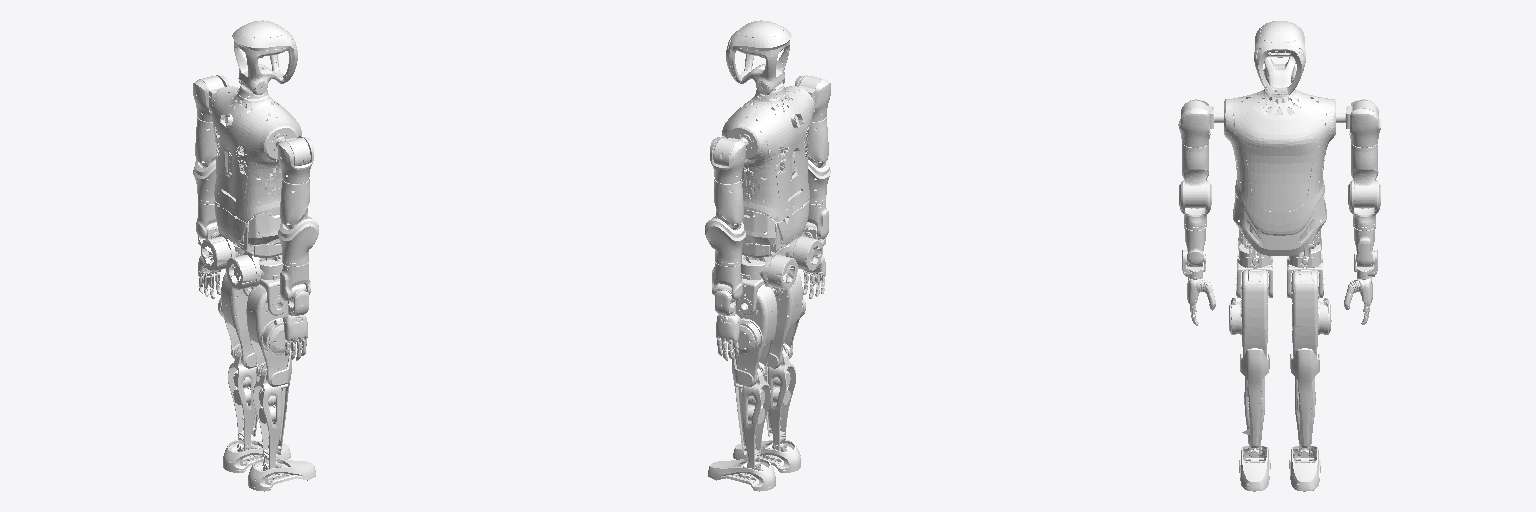
--- Render facts (derived) ---
Views: 3 orthographic renders of the robot side by side, from view 1: azimuth 30°, elevation 25°; view 2: azimuth 150°, elevation 25°; view 3: azimuth 270°, elevation 25°.
Robot: biped_s46 — 46 links, 45 joints (28 revolute, 16 fixed, 1 floating); root link dummy_link; default pose: all joints at 0.
Visible links, largest first — view 1: base_link, zhead_2_link, leg_r3_link, leg_r4_link, leg_l4_link, leg_l3_link, leg_r6_link, zarm_r4_link, zarm_r7_link, zarm_r3_link, leg_l6_link, zarm_r2_link (+7 smaller); view 2: base_link, zhead_2_link, leg_l3_link, leg_l4_link, leg_r4_link, leg_r3_link, leg_l6_link, zarm_l4_link, zarm_l7_link, zarm_l3_link, leg_r6_link, zarm_l2_link (+8 smaller); view 3: base_link, zhead_2_link, leg_l3_link, leg_r3_link, leg_r4_link, leg_l4_link, zarm_l3_link, zarm_r3_link, leg_l6_link, leg_r6_link, zarm_l2_link, zarm_r2_link (+6 smaller).
Link boxes in pixels (x1,y1,x2,y2): base_link: (201, 86, 301, 289); zhead_2_link: (232, 20, 297, 94); leg_r3_link: (246, 284, 291, 386); leg_r4_link: (253, 350, 291, 468); leg_l4_link: (228, 344, 261, 450); leg_l3_link: (218, 272, 253, 368); leg_r6_link: (248, 459, 315, 491); zarm_r4_link: (278, 218, 318, 266); zarm_r7_link: (283, 291, 308, 360); zarm_r3_link: (280, 179, 311, 229); leg_l6_link: (223, 440, 290, 472); zarm_r2_link: (278, 136, 313, 183); base_link: (722, 86, 822, 289); zhead_2_link: (726, 20, 791, 95); leg_l3_link: (729, 284, 777, 386); leg_l4_link: (732, 350, 770, 468); leg_r4_link: (762, 344, 795, 450); leg_r3_link: (770, 272, 805, 368); leg_l6_link: (708, 459, 775, 491); zarm_l4_link: (705, 218, 745, 266); zarm_l7_link: (715, 291, 740, 360); zarm_l3_link: (712, 179, 743, 229); leg_r6_link: (733, 440, 800, 472); zarm_l2_link: (710, 136, 745, 183); base_link: (1224, 89, 1335, 268); zhead_2_link: (1254, 21, 1305, 94); leg_l3_link: (1291, 270, 1331, 357); leg_r3_link: (1229, 270, 1268, 357); leg_r4_link: (1240, 348, 1269, 455); leg_l4_link: (1290, 348, 1319, 455); zarm_l3_link: (1351, 144, 1378, 207); zarm_r3_link: (1182, 144, 1208, 207); leg_l6_link: (1289, 446, 1320, 491); leg_r6_link: (1239, 446, 1270, 491); zarm_l2_link: (1349, 99, 1381, 147); zarm_r2_link: (1178, 99, 1210, 147).
Size in the robot's own frame: 0.3178 by 0.7029 by 1.71 metres.
30 mesh visuals loaded from 31 distinct referenced files (30 binary STL); not drawn: 1 (reference not matched to a file when rendering).

The robot description file, URDF, robot "biped_s46":
<?xml version='1.0' encoding='utf-8'?>
<robot name="biped_s46">
  <mujoco>
    <compiler meshdir="../meshes/" balanceinertia="true" discardvisual="false" />
  </mujoco>
  <link name="dummy_link" />
  <link name="base_link">
    <inertial>
      <origin xyz="-0.00761 0.00182 0.21995" rpy="0 0 0" />
      <mass value="26.8206" />
      <inertia ixx="0.93103133" ixy="0.00011763" ixz="-0.07210993" iyy="0.82590532" iyz="6.88e-06" izz="0.27686612" />
    </inertial>
    <visual>
      <origin xyz="0 0 0" rpy="0 0 0" />
      <geometry>
        <mesh filename="package://kuavo_assets/models/biped_s46/meshes/torso.STL" />
      </geometry>
      <material name="">
        <color rgba="1 1 1 1" />
      </material>
    </visual>
  </link>
  <joint name="dummy_to_base_link" type="floating">
    <origin xyz="0 0 0" rpy="0 0 0" />
    <parent link="dummy_link" />
    <child link="base_link" />
  </joint>
  <link name="leg_l1_link">
    <inertial>
      <origin xyz="-0.00402302 0.00013568 -0.00908713" rpy="0 0 0" />
      <mass value="1.75435865" />
      <inertia ixx="0.00213694" ixy="-1.117e-05" ixz="7.843e-05" iyy="0.00281054" iyz="1.45e-06" izz="0.00376989" />
    </inertial>
    <visual>
      <origin xyz="0 0 0" rpy="0 0 0" />
      <geometry>
        <mesh filename="package://kuavo_assets/models/biped_s46/meshes/l_leg_roll.STL" />
      </geometry>
      <material name="">
        <color rgba="1 1 1 1" />
      </material>
    </visual>
  </link>
  <joint name="leg_l1_joint" type="revolute">
    <origin xyz="-0.0024999 0.087 -0.066" rpy="0 0 0" />
    <parent link="base_link" />
    <child link="leg_l1_link" />
    <axis xyz="1 0 0" />
    <limit lower="-0.314159265358979" upper="0.663225115757845" effort="180.0" velocity="23.55" />
    <dynamic damping="0.2" friction="0.0" />
  </joint>
  <link name="leg_l2_link">
    <inertial>
      <origin xyz="-0.00277949 0.00478016 -0.07783479" rpy="0 0 0" />
      <mass value="0.65196372" />
      <inertia ixx="0.00252541" ixy="-1.458e-05" ixz="4.114e-05" iyy="0.00133394" iyz="0.00013109" izz="0.00190182" />
    </inertial>
    <visual>
      <origin xyz="0 0 0" rpy="0 0 0" />
      <geometry>
        <mesh filename="package://kuavo_assets/models/biped_s46/meshes/l_leg_yaw.STL" />
      </geometry>
      <material name="">
        <color rgba="1 1 1 1" />
      </material>
    </visual>
  </link>
  <joint name="leg_l2_joint" type="revolute">
    <origin xyz="0 0 0" rpy="0 0 0" />
    <parent link="leg_l1_link" />
    <child link="leg_l2_link" />
    <axis xyz="0 0 1" />
    <limit lower="-0.872664625997165" upper="0.785398163397448" effort="100.0" velocity="41.3433333333333" />
    <dynamic damping="0.2" friction="0.0" />
  </joint>
  <link name="leg_l3_link">
    <inertial>
      <origin xyz="0.00106133 0.00970189 -0.08299898" rpy="0 0 0" />
      <mass value="4.78668906" />
      <inertia ixx="0.04245642" ixy="5.914e-05" ixz="0.0011988" iyy="0.04359485" iyz="0.00289498" izz="0.01119299" />
    </inertial>
    <visual>
      <origin xyz="0 0 0" rpy="0 0 0" />
      <geometry>
        <mesh filename="package://kuavo_assets/models/biped_s46/meshes/l_leg_pitch.STL" />
      </geometry>
      <material name="">
        <color rgba="1 1 1 1" />
      </material>
    </visual>
  </link>
  <joint name="leg_l3_joint" type="revolute">
    <origin xyz="0 0 -0.1287" rpy="0 0 0" />
    <parent link="leg_l2_link" />
    <child link="leg_l3_link" />
    <axis xyz="0 1 0" />
    <limit lower="-2.00712863979348" upper="1.5707963267949" effort="100.0" velocity="41.3433333333333" />
    <dynamic damping="0.2" friction="0.0" />
  </joint>
  <link name="leg_l4_link">
    <inertial>
      <origin xyz="0.00811619 -1.521e-05 -0.11050332" rpy="0 0 0" />
      <mass value="1.87830432" />
      <inertia ixx="0.01534476" ixy="-3.39e-06" ixz="8.841e-05" iyy="0.01543732" iyz="-5.473e-05" izz="0.00111697" />
    </inertial>
    <visual>
      <origin xyz="0 0 0" rpy="0 0 0" />
      <geometry>
        <mesh filename="package://kuavo_assets/models/biped_s46/meshes/l_knee.STL" />
      </geometry>
      <material name="">
        <color rgba="1 1 1 1" />
      </material>
    </visual>
  </link>
  <joint name="leg_l4_joint" type="revolute">
    <origin xyz="0 0 -0.284" rpy="0 0 0" />
    <parent link="leg_l3_link" />
    <child link="leg_l4_link" />
    <axis xyz="0 1 0" />
    <limit lower="0.0" upper="2.53072741539178" effort="180.0" velocity="23.55" />
    <dynamic damping="0.2" friction="0.0" />
  </joint>
  <link name="leg_l5_link">
    <inertial>
      <origin xyz="0.0 0.0 0.0" rpy="0 0 0" />
      <mass value="0.07193524" />
      <inertia ixx="6.92e-06" ixy="0.0" ixz="0.0" iyy="6.92e-06" iyz="0.0" izz="1.218e-05" />
    </inertial>
    <visual>
      <origin xyz="0 0 0" rpy="0 0 0" />
      <geometry>
        <mesh filename="package://kuavo_assets/models/biped_s46/meshes/l_foot_pitch.STL" />
      </geometry>
      <material name="">
        <color rgba="1 1 1 1" />
      </material>
    </visual>
  </link>
  <joint name="leg_l5_joint" type="revolute">
    <origin xyz="0 0 -0.346" rpy="0 0 0" />
    <parent link="leg_l4_link" />
    <child link="leg_l5_link" />
    <axis xyz="0 1 0" />
    <limit lower="-0.872664625997165" upper="0.349065850398866" effort="36.0" velocity="23.0266666666667" />
    <dynamic damping="0.2" friction="0.0" />
  </joint>
  <link name="leg_l6_link">
    <inertial>
      <origin xyz="0.02854191 1.684e-05 -0.03872043" rpy="0 0 0" />
      <mass value="0.76188245" />
      <inertia ixx="0.00078865" ixy="-5e-08" ixz="0.0001266" iyy="0.00287756" iyz="2e-08" izz="0.00303499" />
    </inertial>
    <visual>
      <origin xyz="0 0 0" rpy="0 0 0" />
      <geometry>
        <mesh filename="package://kuavo_assets/models/biped_s46/meshes/l_foot_roll.STL" />
      </geometry>
      <material name="">
        <color rgba="1 1 1 1" />
      </material>
    </visual>
    <collision>
    	<origin xyz="0.0488 0 0" rpy="0 0 0"/>
	    <geometry>
		    <box size="0.25 0.1 0.04"/>
	    </geometry>
    </collision>
  </link>
  <joint name="leg_l6_joint" type="revolute">
    <origin xyz="0 0 0" rpy="0 0 0" />
    <parent link="leg_l5_link" />
    <child link="leg_l6_link" />
    <axis xyz="1 0 0" />
    <limit lower="-0.261799387799149" upper="0.261799387799149" effort="36.0" velocity="23.0266666666667" />
    <dynamic damping="0.2" friction="0.0" />
  </joint>
  <link name="ll_foot_toe">
    <collision>
      <origin rpy="0 0 0" xyz="0 0 0" />
      <geometry>
        <sphere radius="0.005" />
      </geometry>
    </collision>
  </link>
  <joint name="ll_foot_toe_joint" type="fixed">
    <origin xyz="0.17475 0.05623 -0.0695" rpy="0 0 0" />
    <parent link="leg_l6_link" />
    <child link="ll_foot_toe" />
  </joint>
  <link name="ll_foot_heel">
    <collision>
      <origin rpy="0 0 0" xyz="0 0 0" />
      <geometry>
        <sphere radius="0.005" />
      </geometry>
    </collision>
  </link>
  <joint name="ll_foot_heel_joint" type="fixed">
    <origin xyz="-0.07838 0.05623 -0.0695" rpy="0 0 0" />
    <parent link="leg_l6_link" />
    <child link="ll_foot_heel" />
  </joint>
  <link name="lr_foot_toe">
    <collision>
      <origin rpy="0 0 0" xyz="0 0 0" />
      <geometry>
        <sphere radius="0.005" />
      </geometry>
    </collision>
  </link>
  <joint name="lr_foot_toe_joint" type="fixed">
    <origin xyz="0.17475 -0.05623 -0.0695" rpy="0 0 0" />
    <parent link="leg_l6_link" />
    <child link="lr_foot_toe" />
  </joint>
  <link name="lr_foot_heel">
    <collision>
      <origin rpy="0 0 0" xyz="0 0 0" />
      <geometry>
        <sphere radius="0.005" />
      </geometry>
    </collision>
  </link>
  <joint name="lr_foot_heel_joint" type="fixed">
    <origin xyz="-0.07838 -0.05623 -0.0695" rpy="0 0 0" />
    <parent link="leg_l6_link" />
    <child link="lr_foot_heel" />
  </joint>
  <link name="l_foot_toe">
    <collision>
      <origin rpy="0 0 0" xyz="0 0 0" />
      <geometry>
        <sphere radius="0.005" />
      </geometry>
    </collision>
  </link>
  <joint name="l_foot_toe_joint" type="fixed">
    <origin xyz="0.17475 0.0 -0.0695" rpy="0 0 0" />
    <parent link="leg_l6_link" />
    <child link="l_foot_toe" />
  </joint>
  <link name="l_foot_heel">
    <collision>
      <origin rpy="0 0 0" xyz="0 0 0" />
      <geometry>
        <sphere radius="0.005" />
      </geometry>
    </collision>
  </link>
  <joint name="l_foot_heel_joint" type="fixed">
    <origin xyz="-0.07838 0.0 -0.0695" rpy="0 0 0" />
    <parent link="leg_l6_link" />
    <child link="l_foot_heel" />
  </joint>
  <link name="leg_r1_link">
    <inertial>
      <origin xyz="-0.004023 -0.00013567 -0.00908714" rpy="0 0 0" />
      <mass value="1.75435774" />
      <inertia ixx="0.00213694" ixy="1.117e-05" ixz="7.843e-05" iyy="0.00281054" iyz="-1.45e-06" izz="0.00376989" />
    </inertial>
    <visual>
      <origin xyz="0 0 0" rpy="0 0 0" />
      <geometry>
        <mesh filename="package://kuavo_assets/models/biped_s46/meshes/r_leg_roll.STL" />
      </geometry>
      <material name="">
        <color rgba="1 1 1 1" />
      </material>
    </visual>
  </link>
  <joint name="leg_r1_joint" type="revolute">
    <origin xyz="-0.0024999 -0.087 -0.066" rpy="0 0 0" />
    <parent link="base_link" />
    <child link="leg_r1_link" />
    <axis xyz="1 0 0" />
    <limit lower="-0.663225115757845" upper="0.314159265358979" effort="180.0" velocity="23.55" />
    <dynamic damping="0.2" friction="0.0" />
  </joint>
  <link name="leg_r2_link">
    <inertial>
      <origin xyz="-0.00277949 -0.00477985 -0.077836" rpy="0 0 0" />
      <mass value="0.6519443" />
      <inertia ixx="0.00252534" ixy="1.458e-05" ixz="4.114e-05" iyy="0.00133391" iyz="-0.00013109" izz="0.00190179" />
    </inertial>
    <visual>
      <origin xyz="0 0 0" rpy="0 0 0" />
      <geometry>
        <mesh filename="package://kuavo_assets/models/biped_s46/meshes/r_leg_yaw.STL" />
      </geometry>
      <material name="">
        <color rgba="1 1 1 1" />
      </material>
    </visual>
  </link>
  <joint name="leg_r2_joint" type="revolute">
    <origin xyz="0 0 0" rpy="0 0 0" />
    <parent link="leg_r1_link" />
    <child link="leg_r2_link" />
    <axis xyz="0 0 1" />
    <limit lower="-0.785398163397448" upper="0.872664625997165" effort="100.0" velocity="41.3433333333333" />
    <dynamic damping="0.2" friction="0.0" />
  </joint>
  <link name="leg_r3_link">
    <inertial>
      <origin xyz="0.0010631 -0.00970056 -0.08300529" rpy="0 0 0" />
      <mass value="4.78627562" />
      <inertia ixx="0.04245191" ixy="-5.916e-05" ixz="0.00119828" iyy="0.04359033" iyz="-0.00289515" izz="0.01119264" />
    </inertial>
    <visual>
      <origin xyz="0 0 0" rpy="0 0 0" />
      <geometry>
        <mesh filename="package://kuavo_assets/models/biped_s46/meshes/r_leg_pitch.STL" />
      </geometry>
      <material name="">
        <color rgba="1 1 1 1" />
      </material>
    </visual>
  </link>
  <joint name="leg_r3_joint" type="revolute">
    <origin xyz="0 0 -0.1287" rpy="0 0 0" />
    <parent link="leg_r2_link" />
    <child link="leg_r3_link" />
    <axis xyz="0 1 0" />
    <limit lower="-2.00712863979348" upper="1.5707963267949" effort="100.0" velocity="41.3433333333333" />
    <dynamic damping="0.2" friction="0.0" />
  </joint>
  <link name="leg_r4_link">
    <inertial>
      <origin xyz="0.00810188 3.554e-05 -0.11037575" rpy="0 0 0" />
      <mass value="1.87881094" />
      <inertia ixx="0.01569504" ixy="3.34e-06" ixz="8.555e-05" iyy="0.01582823" iyz="5.467e-05" izz="0.00148903" />
    </inertial>
    <visual>
      <origin xyz="0 0 0" rpy="0 0 0" />
      <geometry>
        <mesh filename="package://kuavo_assets/models/biped_s46/meshes/r_knee.STL" />
      </geometry>
      <material name="">
        <color rgba="1 1 1 1" />
      </material>
    </visual>
  </link>
  <joint name="leg_r4_joint" type="revolute">
    <origin xyz="0 0 -0.284" rpy="0 0 0" />
    <parent link="leg_r3_link" />
    <child link="leg_r4_link" />
    <axis xyz="0 1 0" />
    <limit lower="0.0" upper="2.53072741539178" effort="180.0" velocity="23.55" />
    <dynamic damping="0.2" friction="0.0" />
  </joint>
  <link name="leg_r5_link">
    <inertial>
      <origin xyz="0.0 0.0 0.0" rpy="0 0 0" />
      <mass value="0.07193524" />
      <inertia ixx="6.92e-06" ixy="0.0" ixz="0.0" iyy="6.92e-06" iyz="0.0" izz="1.218e-05" />
    </inertial>
    <visual>
      <origin xyz="0 0 0" rpy="0 0 0" />
      <geometry>
        <mesh filename="package://kuavo_assets/models/biped_s46/meshes/r_foot_pitch.STL" />
      </geometry>
      <material name="">
        <color rgba="1 1 1 1" />
      </material>
    </visual>
  </link>
  <joint name="leg_r5_joint" type="revolute">
    <origin xyz="0 0 -0.346" rpy="0 0 0" />
    <parent link="leg_r4_link" />
    <child link="leg_r5_link" />
    <axis xyz="0 1 0" />
    <limit lower="-0.872664625997165" upper="0.349065850398866" effort="36.0" velocity="23.0266666666667" />
    <dynamic damping="0.2" friction="0.0" />
  </joint>
  <link name="leg_r6_link">
    <inertial>
      <origin xyz="0.02854191 1.684e-05 -0.03872043" rpy="0 0 0" />
      <mass value="0.76188245" />
      <inertia ixx="0.00078865" ixy="-5e-08" ixz="0.0001266" iyy="0.00287756" iyz="2e-08" izz="0.00303499" />
    </inertial>
    <visual>
      <origin xyz="0 0 0" rpy="0 0 0" />
      <geometry>
        <mesh filename="package://kuavo_assets/models/biped_s46/meshes/r_foot_roll.STL" />
      </geometry>
      <material name="">
        <color rgba="1 1 1 1" />
      </material>
    </visual>
    <collision>
    	<origin xyz="0.0488 0 0" rpy="0 0 0"/>
	    <geometry>
		    <box size="0.25 0.1 0.04"/>
	    </geometry>
    </collision>
  </link>
  <joint name="leg_r6_joint" type="revolute">
    <origin xyz="0 0 0" rpy="0 0 0" />
    <parent link="leg_r5_link" />
    <child link="leg_r6_link" />
    <axis xyz="1 0 0" />
    <limit lower="-0.261799387799149" upper="0.261799387799149" effort="36.0" velocity="23.0266666666667" />
    <dynamic damping="0.2" friction="0.0" />
  </joint>
  <link name="rl_foot_toe">
    <collision>
      <origin rpy="0 0 0" xyz="0 0 0" />
      <geometry>
        <sphere radius="0.005" />
      </geometry>
    </collision>
  </link>
  <joint name="rl_foot_toe_joint" type="fixed">
    <origin xyz="0.17475 0.05623 -0.0695" rpy="0 0 0" />
    <parent link="leg_r6_link" />
    <child link="rl_foot_toe" />
  </joint>
  <link name="rl_foot_heel">
    <collision>
      <origin rpy="0 0 0" xyz="0 0 0" />
      <geometry>
        <sphere radius="0.005" />
      </geometry>
    </collision>
  </link>
  <joint name="rl_foot_heel_joint" type="fixed">
    <origin xyz="-0.07838 0.05623 -0.0695" rpy="0 0 0" />
    <parent link="leg_r6_link" />
    <child link="rl_foot_heel" />
  </joint>
  <link name="rr_foot_toe">
    <collision>
      <origin rpy="0 0 0" xyz="0 0 0" />
      <geometry>
        <sphere radius="0.005" />
      </geometry>
    </collision>
  </link>
  <joint name="rr_foot_toe_joint" type="fixed">
    <origin xyz="0.17475 -0.05623 -0.0695" rpy="0 0 0" />
    <parent link="leg_r6_link" />
    <child link="rr_foot_toe" />
  </joint>
  <link name="rr_foot_heel">
    <collision>
      <origin rpy="0 0 0" xyz="0 0 0" />
      <geometry>
        <sphere radius="0.005" />
      </geometry>
    </collision>
  </link>
  <joint name="rr_foot_heel_joint" type="fixed">
    <origin xyz="-0.07838 -0.05623 -0.0695" rpy="0 0 0" />
    <parent link="leg_r6_link" />
    <child link="rr_foot_heel" />
  </joint>
  <link name="r_foot_toe">
    <collision>
      <origin rpy="0 0 0" xyz="0 0 0" />
      <geometry>
        <sphere radius="0.005" />
      </geometry>
    </collision>
  </link>
  <joint name="r_foot_toe_joint" type="fixed">
    <origin xyz="0.17475 0.0 -0.0695" rpy="0 0 0" />
    <parent link="leg_r6_link" />
    <child link="r_foot_toe" />
  </joint>
  <link name="r_foot_heel">
    <collision>
      <origin rpy="0 0 0" xyz="0 0 0" />
      <geometry>
        <sphere radius="0.005" />
      </geometry>
    </collision>
  </link>
  <joint name="r_foot_heel_joint" type="fixed">
    <origin xyz="-0.07838 0.0 -0.0695" rpy="0 0 0" />
    <parent link="leg_r6_link" />
    <child link="r_foot_heel" />
  </joint>
  <link name="zarm_l1_link">
    <inertial>
      <origin xyz="-0.00083 -0.02218 0.00035" rpy="0 0 0" />
      <mass value="0.962" />
      <inertia ixx="0.00225" ixy="-3e-05" ixz="0.0" iyy="0.00099" iyz="-2e-05" izz="0.00227" />
    </inertial>
    <visual>
      <origin xyz="0 0 0" rpy="0 0 0" />
      <geometry>
        <mesh filename="package://kuavo_assets/models/biped_s46/meshes/l_arm_pitch.STL" />
      </geometry>
      <material name="">
        <color rgba="1 1 1 1" />
      </material>
    </visual>
  </link>
  <joint name="zarm_l1_joint" type="revolute">
    <origin xyz="-0.017499853 0.29269999999999996 0.445" rpy="0 0 0" />
    <parent link="base_link" />
    <child link="zarm_l1_link" />
    <axis xyz="0 1 0" />
    <limit lower="-3.14159265358979" upper="1.5707963267949" effort="100.0" velocity="41.3433333333333" />
    <dynamic damping="0.2" friction="0.0" />
  </joint>
  <link name="zarm_l2_link">
    <inertial>
      <origin xyz="-0.00791 0.0 -0.04655" rpy="0 0 0" />
      <mass value="0.57" />
      <inertia ixx="0.00163" ixy="0.0" ixz="5e-05" iyy="0.00211" iyz="0.0" izz="0.00122" />
    </inertial>
    <visual>
      <origin xyz="0 0 0" rpy="0 0 0" />
      <geometry>
        <mesh filename="package://kuavo_assets/models/biped_s46/meshes/l_arm_roll.STL" />
      </geometry>
      <material name="">
        <color rgba="1 1 1 1" />
      </material>
    </visual>
  </link>
  <joint name="zarm_l2_joint" type="revolute">
    <origin xyz="0 0 0" rpy="0 0 0" />
    <parent link="zarm_l1_link" />
    <child link="zarm_l2_link" />
    <axis xyz="1 0 0" />
    <limit lower="-0.349065850398866" upper="2.0943951023932" effort="50.0" velocity="8.37333333333333" />
    <dynamic damping="0.2" friction="0.0" />
  </joint>
  <link name="zarm_l3_link">
    <inertial>
      <origin xyz="0.00628 0.00107 -0.20878" rpy="0 0 0" />
      <mass value="1.65" />
      <inertia ixx="0.00815" ixy="-4e-05" ixz="0.00085" iyy="0.00828" iyz="0.00014" izz="0.00206" />
    </inertial>
    <visual>
      <origin xyz="0 0 0" rpy="0 0 0" />
      <geometry>
        <mesh filename="package://kuavo_assets/models/biped_s46/meshes/l_arm_yaw.STL" />
      </geometry>
      <material name="">
        <color rgba="1 1 1 1" />
      </material>
    </visual>
  </link>
  <joint name="zarm_l3_joint" type="revolute">
    <origin xyz="0 0 0" rpy="0 0 0" />
    <parent link="zarm_l2_link" />
    <child link="zarm_l3_link" />
    <axis xyz="0 0 1" />
    <limit lower="-1.5707963267949" upper="1.5707963267949" effort="39.0" velocity="19.3633333333333" />
    <dynamic damping="0.2" friction="0.0" />
  </joint>
  <link name="zarm_l4_link">
    <inertial>
      <origin xyz="-0.01611 0.00143 -0.04857" rpy="0 0 0" />
      <mass value="0.429" />
      <inertia ixx="0.00135" ixy="0.0" ixz="-0.0001" iyy="0.00114" iyz="0.0" izz="0.00083" />
    </inertial>
    <visual>
      <origin xyz="0 0 0" rpy="0 0 0" />
      <geometry>
        <mesh filename="package://kuavo_assets/models/biped_s46/meshes/l_forearm.STL" />
      </geometry>
      <material name="">
        <color rgba="1 1 1 1" />
      </material>
    </visual>
  </link>
  <joint name="zarm_l4_joint" type="revolute">
    <origin xyz="0.0200000000000001 0 -0.2837" rpy="0 0 0" />
    <parent link="zarm_l3_link" />
    <child link="zarm_l4_link" />
    <axis xyz="0 1 0" />
    <limit lower="-2.61799387799149" upper="0.0" effort="50.0" velocity="8.37333333333333" />
    <dynamic damping="0.2" friction="0.0" />
  </joint>
  <link name="zarm_l5_link">
    <inertial>
      <origin xyz="-0.00207 0.00018 -0.05079" rpy="0 0 0" />
      <mass value="0.61" />
      <inertia ixx="0.00107" ixy="0.0" ixz="-4e-05" iyy="0.00146" iyz="0.0" izz="0.00083" />
    </inertial>
    <visual>
      <origin xyz="0 0 0" rpy="0 0 0" />
      <geometry>
        <mesh filename="package://kuavo_assets/models/biped_s46/meshes/l_hand_yaw.STL" />
      </geometry>
      <material name="">
        <color rgba="1 1 1 1" />
      </material>
    </visual>
  </link>
  <joint name="zarm_l5_joint" type="revolute">
    <origin xyz="-0.02 0 -0.126000000138651" rpy="0 0 0" />
    <parent link="zarm_l4_link" />
    <child link="zarm_l5_link" />
    <axis xyz="0 0 1" />
    <limit lower="-1.5707963267949" upper="1.5707963267949" effort="12.0" velocity="7.32666666666667" />
    <dynamic damping="0.2" friction="0.0" />
  </joint>
  <link name="zarm_l6_link">
    <inertial>
      <origin xyz="-0.00111 0.00335 -0.01335" rpy="0 0 0" />
      <mass value="0.331" />
      <inertia ixx="0.00022" ixy="0.0" ixz="0.0" iyy="0.00027" iyz="0.0" izz="0.00028" />
    </inertial>
    <visual>
      <origin xyz="0 0 0" rpy="0 0 0" />
      <geometry>
        <mesh filename="package://kuavo_assets/models/biped_s46/meshes/l_hand_roll.STL" />
      </geometry>
      <material name="">
        <color rgba="1 1 1 1" />
      </material>
    </visual>
  </link>
  <joint name="zarm_l6_joint" type="revolute">
    <origin xyz="0 0 -0.107499999861353" rpy="0 0 0" />
    <parent link="zarm_l5_link" />
    <child link="zarm_l6_link" />
    <axis xyz="1 0 0" />
    <limit lower="-1.30899693899575" upper="0.698131700797732" effort="12.0" velocity="7.32666666666667" />
    <dynamic damping="0.2" friction="0.0" />
  </joint>
  <link name="zarm_l7_link">
    <inertial>
      <origin xyz="0.00186 0.01014 -0.09044" rpy="0 0 0" />
      <mass value="0.64" />
      <inertia ixx="0.00071" ixy="1e-05" ixz="2e-05" iyy="0.0007" iyz="-4e-05" izz="0.00012" />
    </inertial>
    <visual>
      <origin xyz="0 0 0" rpy="0 0 0" />
      <geometry>
        <mesh filename="package://kuavo_assets/models/biped_s46/meshes/l_hand_pitch.STL" />
      </geometry>
      <material name="">
        <color rgba="1 1 1 1" />
      </material>
    </visual>
  </link>
  <joint name="zarm_l7_joint" type="revolute">
    <origin xyz="0 0 -0.0209999999999992" rpy="0 0 0" />
    <parent link="zarm_l6_link" />
    <child link="zarm_l7_link" />
    <axis xyz="0 1 0" />
    <limit lower="-0.698131700797732" upper="0.698131700797732" effort="12.0" velocity="7.32666666666667" />
    <dynamic damping="0.2" friction="0.0" />
  </joint>
  <link name="zarm_l7_end_effector">
    <collision>
      <origin rpy="0 0 0" xyz="0 0 0" />
      <geometry>
        <sphere radius="0.005" />
      </geometry>
    </collision>
  </link>
  <joint name="zarm_l7_end_effector_joint" type="fixed">
    <origin xyz="0 -0.03 -0.17" rpy="0 0 0" />
    <parent link="zarm_l7_link" />
    <child link="zarm_l7_end_effector" />
  </joint>
  <link name="zarm_r1_link">
    <inertial>
      <origin xyz="-0.00083 0.02218 0.00035" rpy="0 0 0" />
      <mass value="0.962" />
      <inertia ixx="0.00225" ixy="3e-05" ixz="0.0" iyy="0.00099" iyz="2e-05" izz="0.00227" />
    </inertial>
    <visual>
      <origin xyz="0 0 0" rpy="0 0 0" />
      <geometry>
        <mesh filename="package://kuavo_assets/models/biped_s46/meshes/r_arm_pitch.STL" />
      </geometry>
      <material name="">
        <color rgba="1 1 1 1" />
      </material>
    </visual>
  </link>
  <joint name="zarm_r1_joint" type="revolute">
    <origin xyz="-0.017499853 -0.29269999999999996 0.445" rpy="0 0 0" />
    <parent link="base_link" />
    <child link="zarm_r1_link" />
    <axis xyz="0 1 0" />
    <limit lower="-3.14159265358979" upper="1.5707963267949" effort="100.0" velocity="41.3433333333333" />
    <dynamic damping="0.2" friction="0.0" />
  </joint>
  <link name="zarm_r2_link">
    <inertial>
      <origin xyz="-0.00791 0.0 -0.04655" rpy="0 0 0" />
      <mass value="0.57" />
      <inertia ixx="0.00163" ixy="0.0" ixz="5e-05" iyy="0.00211" iyz="0.0" izz="0.00122" />
    </inertial>
    <visual>
      <origin xyz="0 0 0" rpy="0 0 0" />
      <geometry>
        <mesh filename="package://kuavo_assets/models/biped_s46/meshes/r_arm_roll.STL" />
      </geometry>
      <material name="">
        <color rgba="1 1 1 1" />
      </material>
    </visual>
  </link>
  <joint name="zarm_r2_joint" type="revolute">
    <origin xyz="0 0 0" rpy="0 0 0" />
    <parent link="zarm_r1_link" />
    <child link="zarm_r2_link" />
    <axis xyz="1 0 0" />
    <limit lower="-2.0943951023932" upper="0.349065850398866" effort="50.0" velocity="8.37333333333333" />
    <dynamic damping="0.2" friction="0.0" />
  </joint>
  <link name="zarm_r3_link">
    <inertial>
      <origin xyz="0.00628 -0.00107 -0.20878" rpy="0 0 0" />
      <mass value="1.65" />
      <inertia ixx="0.00815" ixy="4e-05" ixz="0.00085" iyy="0.00828" iyz="-0.00014" izz="0.00206" />
    </inertial>
    <visual>
      <origin xyz="0 0 0" rpy="0 0 0" />
      <geometry>
        <mesh filename="package://kuavo_assets/models/biped_s46/meshes/r_arm_yaw.STL" />
      </geometry>
      <material name="">
        <color rgba="1 1 1 1" />
      </material>
    </visual>
  </link>
  <joint name="zarm_r3_joint" type="revolute">
    <origin xyz="0 0 0" rpy="0 0 0" />
    <parent link="zarm_r2_link" />
    <child link="zarm_r3_link" />
    <axis xyz="0 0 1" />
    <limit lower="-1.5707963267949" upper="1.5707963267949" effort="39.0" velocity="18.84" />
    <dynamic damping="0.2" friction="0.0" />
  </joint>
  <link name="zarm_r4_link">
    <inertial>
      <origin xyz="-0.01611 -0.00143 -0.04857" rpy="0 0 0" />
      <mass value="0.429" />
      <inertia ixx="0.00135" ixy="0.0" ixz="-0.0001" iyy="0.00114" iyz="0.0" izz="0.00083" />
    </inertial>
    <visual>
      <origin xyz="0 0 0" rpy="0 0 0" />
      <geometry>
        <mesh filename="package://kuavo_assets/models/biped_s46/meshes/r_forearm.STL" />
      </geometry>
      <material name="">
        <color rgba="1 1 1 1" />
      </material>
    </visual>
  </link>
  <joint name="zarm_r4_joint" type="revolute">
    <origin xyz="0.0199999999999998 0 -0.2837" rpy="0 0 0" />
    <parent link="zarm_r3_link" />
    <child link="zarm_r4_link" />
    <axis xyz="0 1 0" />
    <limit lower="-2.61799387799149" upper="0.0" effort="50.0" velocity="8.37333333333333" />
    <dynamic damping="0.2" friction="0.0" />
  </joint>
  <link name="zarm_r5_link">
    <inertial>
      <origin xyz="-0.00207 -0.00018 -0.05079" rpy="0 0 0" />
      <mass value="0.61" />
      <inertia ixx="0.00107" ixy="0.0" ixz="-4e-05" iyy="0.00146" iyz="0.0" izz="0.00083" />
    </inertial>
    <visual>
      <origin xyz="0 0 0" rpy="0 0 0" />
      <geometry>
        <mesh filename="package://kuavo_assets/models/biped_s46/meshes/r_hand_yaw.STL" />
      </geometry>
      <material name="">
        <color rgba="1 1 1 1" />
      </material>
    </visual>
  </link>
  <joint name="zarm_r5_joint" type="revolute">
    <origin xyz="-0.0199999999999997 0 -0.126000000138651" rpy="0 0 0" />
    <parent link="zarm_r4_link" />
    <child link="zarm_r5_link" />
    <axis xyz="0 0 1" />
    <limit lower="-1.5707963267949" upper="1.5707963267949" effort="12.0" velocity="7.32666666666667" />
    <dynamic damping="0.2" friction="0.0" />
  </joint>
  <link name="zarm_r6_link">
    <inertial>
      <origin xyz="-0.00111 -0.00335 -0.01335" rpy="0 0 0" />
      <mass value="0.331" />
      <inertia ixx="0.00022" ixy="0.0" ixz="0.0" iyy="0.00027" iyz="0.0" izz="0.00028" />
    </inertial>
    <visual>
      <origin xyz="0 0 0" rpy="0 0 0" />
      <geometry>
        <mesh filename="package://kuavo_assets/models/biped_s46/meshes/r_hand_roll.STL" />
      </geometry>
      <material name="">
        <color rgba="1 1 1 1" />
      </material>
    </visual>
  </link>
  <joint name="zarm_r6_joint" type="revolute">
    <origin xyz="0 0 -0.107499999861352" rpy="0 0 0" />
    <parent link="zarm_r5_link" />
    <child link="zarm_r6_link" />
    <axis xyz="1 0 0" />
    <limit lower="-0.698131700797732" upper="1.30899693899575" effort="12.0" velocity="7.32666666666667" />
    <dynamic damping="0.2" friction="0.0" />
  </joint>
  <link name="zarm_r7_link">
    <inertial>
      <origin xyz="0.00186 -0.01014 -0.09044" rpy="0 0 0" />
      <mass value="0.64" />
      <inertia ixx="0.00069" ixy="-1e-05" ixz="2e-05" iyy="0.00068" iyz="5e-05" izz="0.00012" />
    </inertial>
    <visual>
      <origin xyz="0 0 0" rpy="0 0 0" />
      <geometry>
        <mesh filename="package://kuavo_assets/models/biped_s46/meshes/r_hand_pitch.STL" />
      </geometry>
      <material name="">
        <color rgba="1 1 1 1" />
      </material>
    </visual>
  </link>
  <joint name="zarm_r7_joint" type="revolute">
    <origin xyz="0 0 -0.0210000000000031" rpy="0 0 0" />
    <parent link="zarm_r6_link" />
    <child link="zarm_r7_link" />
    <axis xyz="0 1 0" />
    <limit lower="-0.698131700797732" upper="0.698131700797732" effort="12.0" velocity="7.32666666666667" />
    <dynamic damping="0.2" friction="0.0" />
  </joint>
  <link name="zarm_r7_end_effector">
    <collision>
      <origin rpy="0 0 0" xyz="0 0 0" />
      <geometry>
        <sphere radius="0.005" />
      </geometry>
    </collision>
  </link>
  <joint name="zarm_r7_end_effector_joint" type="fixed">
    <origin xyz="0 0.03 -0.17" rpy="0 0 0" />
    <parent link="zarm_r7_link" />
    <child link="zarm_r7_end_effector" />
  </joint>
  <link name="zhead_1_link">
    <inertial>
      <origin xyz="-0.00031 0.00037 -0.01205" rpy="0 0 0" />
      <mass value="0.35" />
      <inertia ixx="7e-05" ixy="0.0" ixz="0.0" iyy="5e-05" iyz="0.0" izz="5e-05" />
    </inertial>
    <visual>
      <origin xyz="0 0 0" rpy="0 0 0" />
      <geometry>
        <mesh filename="package://kuavo_assets/models/biped_s46/meshes/head_yaw.STL" />
      </geometry>
      <material name="">
        <color rgba="1 1 1 1" />
      </material>
    </visual>
  </link>
  <joint name="zhead_1_joint" type="revolute">
    <origin xyz="-0.018499853 0.0 0.6014" rpy="0 0 0" />
    <parent link="base_link" />
    <child link="zhead_1_link" />
    <axis xyz="0 0 1" />
    <limit lower="-1.5707963267949" upper="1.5707963267949" effort="1.5" velocity="5.23333333333333" />
    <dynamic damping="0.2" friction="0.0" />
  </joint>
  <link name="zhead_2_link">
    <inertial>
      <origin xyz="0.02588 0.00038 0.07271" rpy="0 0 0" />
      <mass value="0.818" />
      <inertia ixx="0.00346" ixy="-3e-05" ixz="0.00017" iyy="0.00348" iyz="-7e-05" izz="0.00222" />
    </inertial>
    <visual>
      <origin xyz="0 0 0" rpy="0 0 0" />
      <geometry>
        <mesh filename="package://kuavo_assets/models/biped_s46/meshes/head_pitch.STL" />
      </geometry>
      <material name="">
        <color rgba="1 1 1 1" />
      </material>
    </visual>
  </link>
  <joint name="zhead_2_joint" type="revolute">
    <origin xyz="0 0 0" rpy="0 0 0" />
    <parent link="zhead_1_link" />
    <child link="zhead_2_link" />
    <axis xyz="0 1 0" />
    <limit lower="-0.523598775598299" upper="0.523598775598299" effort="12.0" velocity="5.23333333333333" />
    <dynamic damping="0.2" friction="0.0" />
  </joint>
  <link name="head_camera">
    <inertial>
      <origin xyz="-0.04257 -0.01736 -0.01161" rpy="0 0 0" />
      <mass value="0.0170256015508847" />
      <inertia ixx="0.00065" ixy="0.0" ixz="0.00015" iyy="0.00091" iyz="0.0" izz="0.00105" />
    </inertial>
    <visual>
      <origin xyz="0 0 0" rpy="0 0 0" />
      <geometry>
        <mesh filename="package://kuavo_assets/models/biped_s46/meshes/head_camera.STL" />
      </geometry>
      <material name="">
        <color rgba="1 1 1 1" />
      </material>
    </visual>
  </link>
  <joint name="head_camera" type="fixed">
    <origin xyz="0.117356528972685 0.0176534072292072 0.152371911407771" rpy="0 0.488692190558416 0" />
    <parent link="zhead_2_link" />
    <child link="head_camera" />
  </joint>
  
  <link
    name="camera_base">
    <inertial>
      <origin
        xyz="0.00354055659132058 0.00140392784997684 0.0124511787517705"
        rpy="0 0 0" />
      <mass
        value="0.0170256015508834" />
      <inertia
        ixx="1.0918264029313E-05"
        ixy="1.05354408167889E-07"
        ixz="1.05871497323805E-08"
        iyy="8.57178950734466E-07"
        iyz="1.64018651463453E-08"
        izz="1.02869893338382E-05" />
    </inertial>
    <visual>
      <origin
        xyz="0 0 0"
        rpy="0 0 0" />
      <geometry>
        <mesh
          filename="package://kuavo_assets/models/biped_s46/meshes/camera_base.STL" />
      </geometry>
      <material
        name="">
        <color
          rgba="1 1 1 1" />
      </material>
    </visual>
    <collision>
      <origin
        xyz="0 0 0"
        rpy="0 0 0" />
      <geometry>
        <mesh
          filename="package://kuavo_assets/models/biped_s46/meshes/camera_base.STL" />
      </geometry>
    </collision>
  </link>
  <joint
    name="camera_base"
    type="fixed">
    <origin
      xyz="0.0828919080642966 0 0.119165137551254"
      rpy="0 0.488692190558416 0" />
    <parent
      link="zhead_2_link" />
    <child
      link="camera_base" />
  </joint>

</robot>
